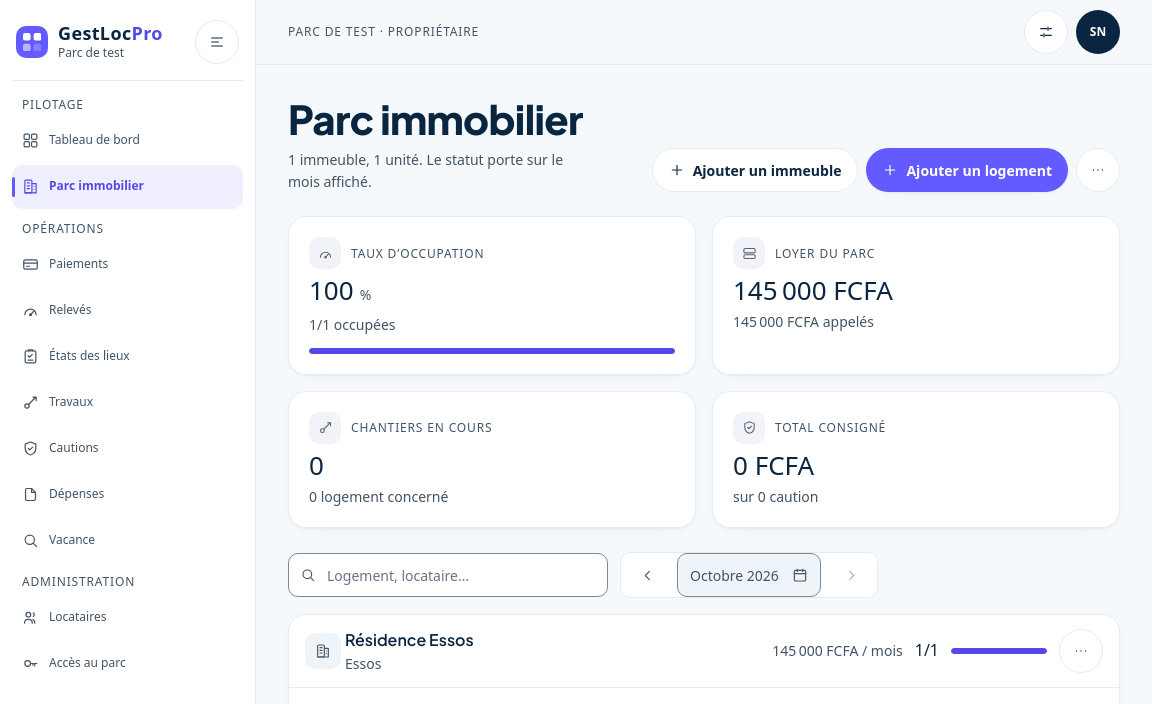
Test: l’ajout d’un immeuble › reste ouvert avec la saisie quand le serveur refuse
Click the button "Ajouter un immeuble": x=755, y=170 x1=652 y1=148 x2=858 y2=192
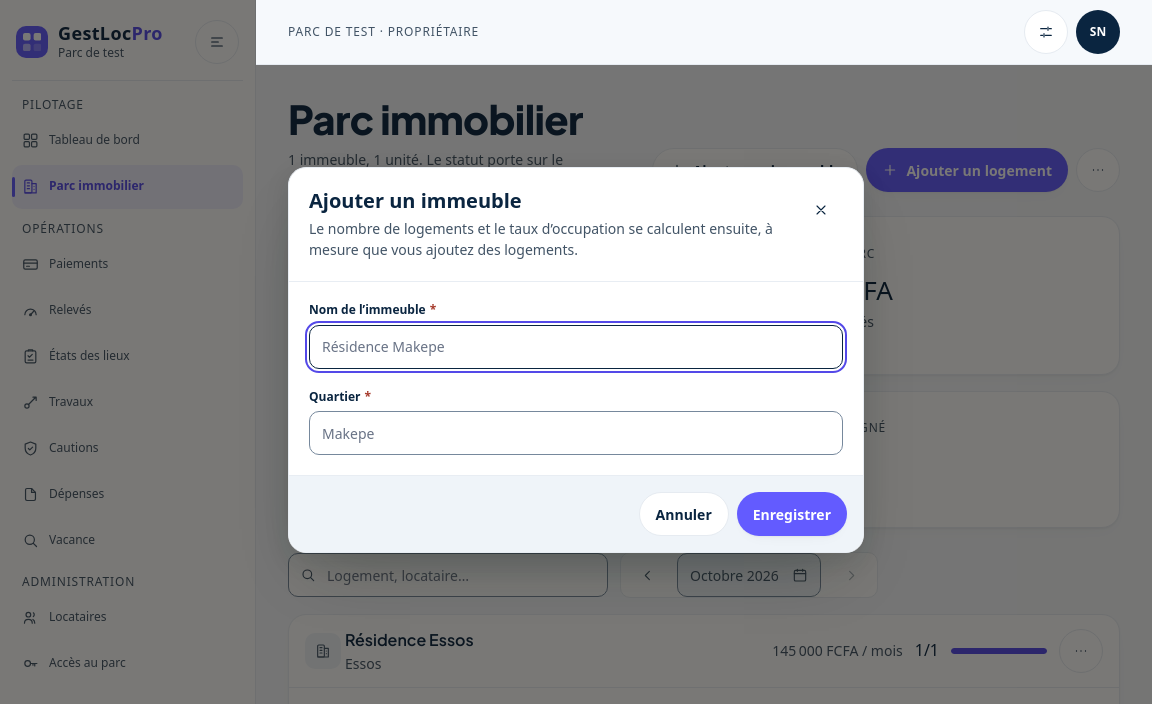
In the field labelled "Nom de l’immeuble*": x=576, y=347 x1=309 y1=325 x2=843 y2=369, type "Villa Bastos"
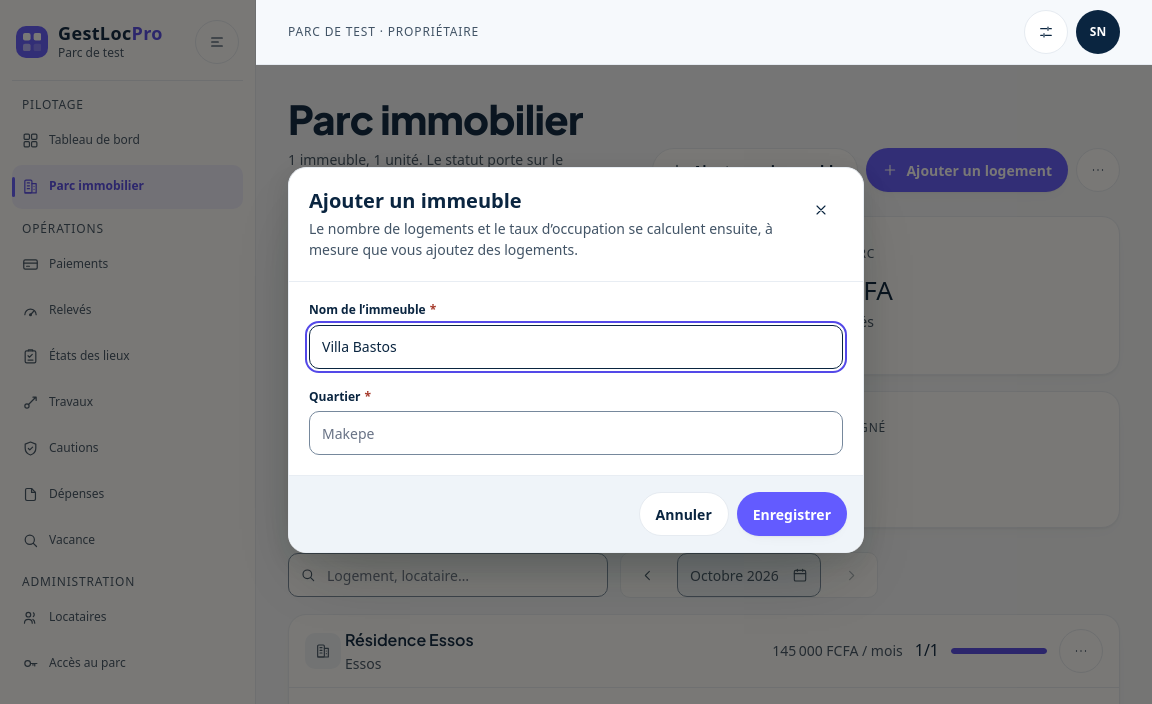
In the field labelled "Quartier*": x=576, y=434 x1=309 y1=412 x2=843 y2=456, type "Bastos"
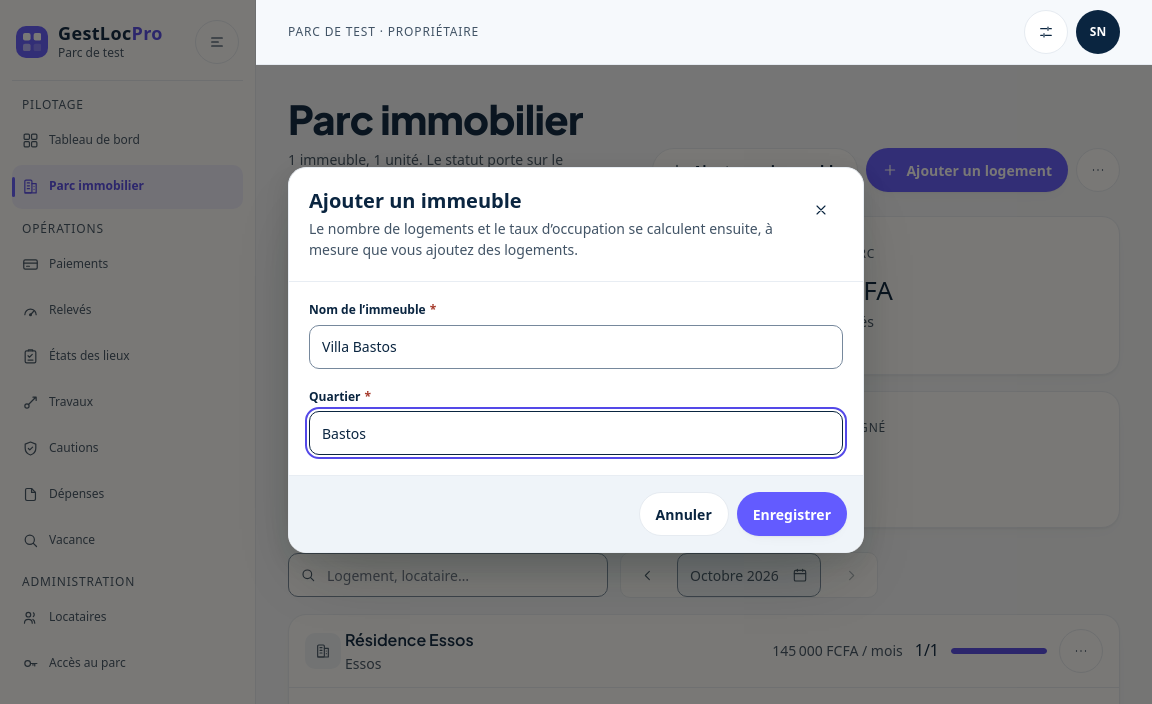
Click the button "Enregistrer": x=792, y=514 x1=737 y1=492 x2=847 y2=536
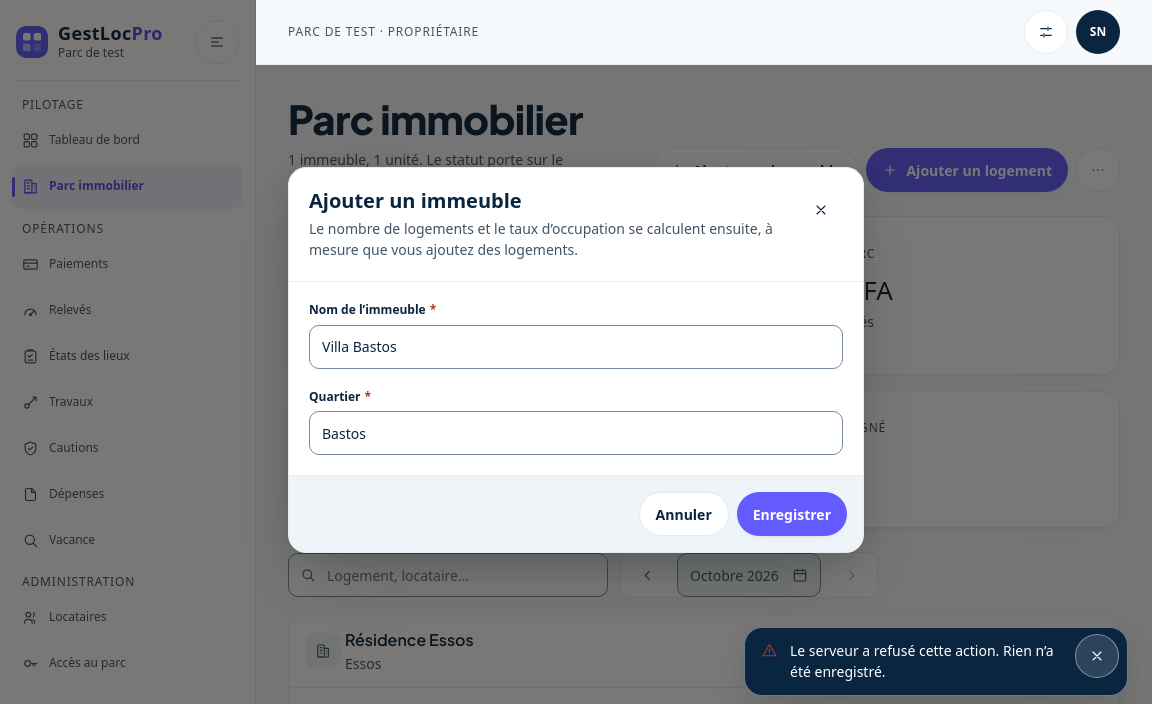
Result: the dialog is shown at x1=288 y1=166 x2=864 y2=554
Result: the text "Le serveur a refusé cette action. Rien n’a été enregistré." is shown at x1=790 y1=640 x2=1063 y2=683
